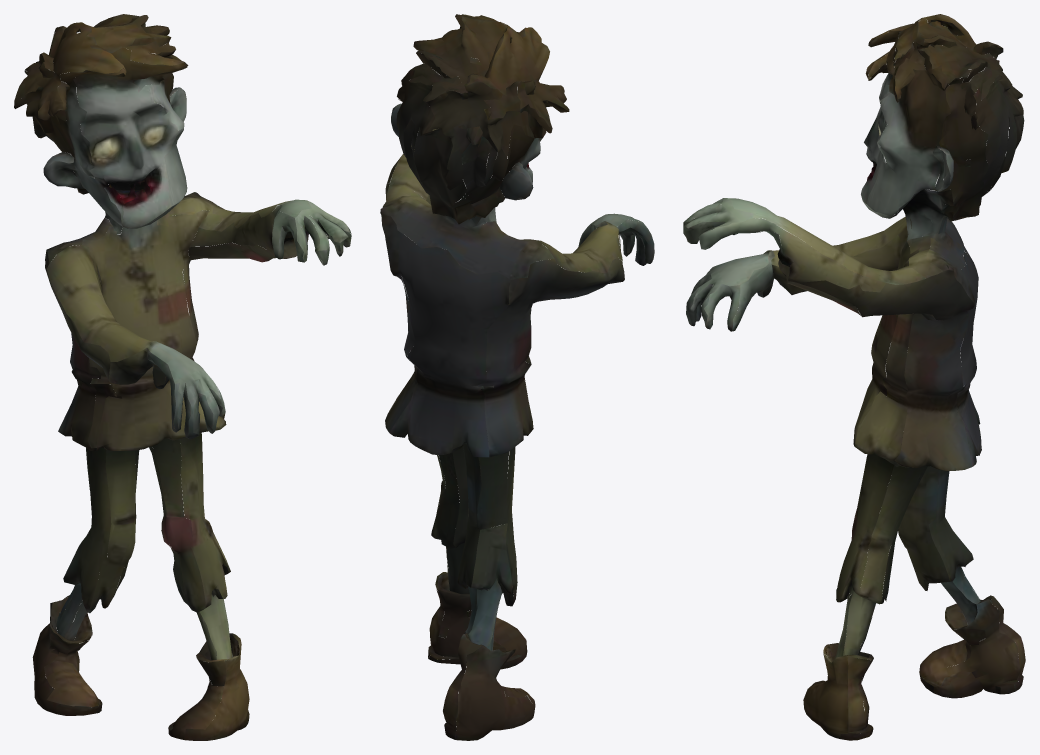
The model's file is zombie.glb.
The picture shows the model from 3 angles, left to right: view 1: azimuth 30°, elevation 25°; view 2: azimuth 150°, elevation 25°; view 3: azimuth 270°, elevation 25°; orthographic projection. The views are drawn at different scales.
Parts seen in each view (by area): view 1: geometry_0; view 2: geometry_0; view 3: geometry_0.
Part boxes in pixels (x1,y1,x2,y2): geometry_0: (14, 14, 351, 740); geometry_0: (380, 14, 654, 740); geometry_0: (683, 14, 1025, 740).
Bounding box in the file's own units: 0.3219 × 0.9958 × 0.4588.
Materials: 1 (1 with a texture image).
